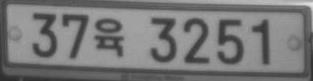1: (251, 19, 270, 64)
2: (184, 17, 209, 62)
3: (31, 12, 57, 58), (150, 16, 176, 62)
5: (217, 19, 244, 63)
7: (62, 14, 88, 59)
육: (93, 18, 123, 57)
